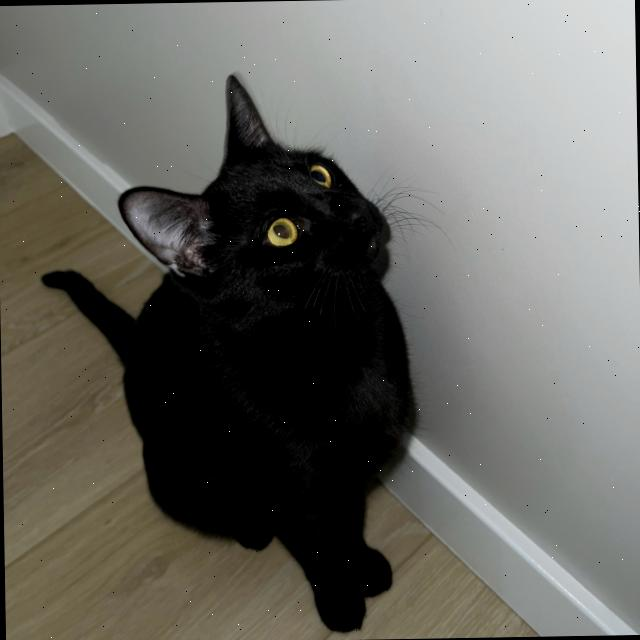bombay_cat: (106, 62, 422, 366)
